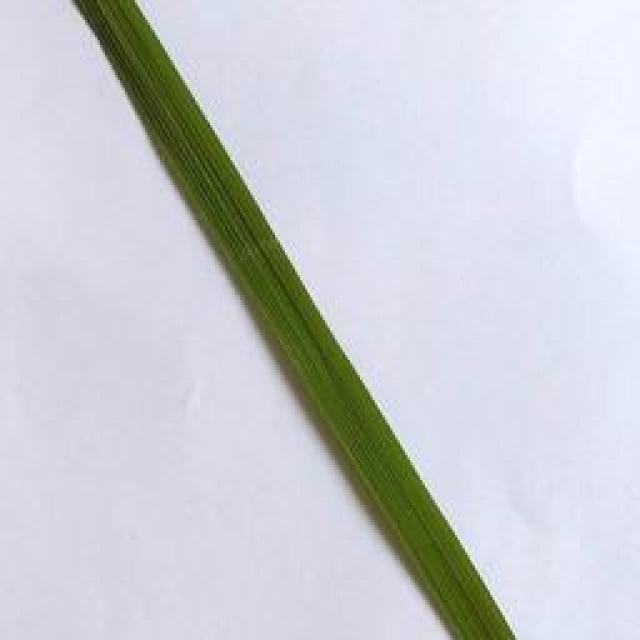Healthy-Plant: (75, 0, 510, 640)
